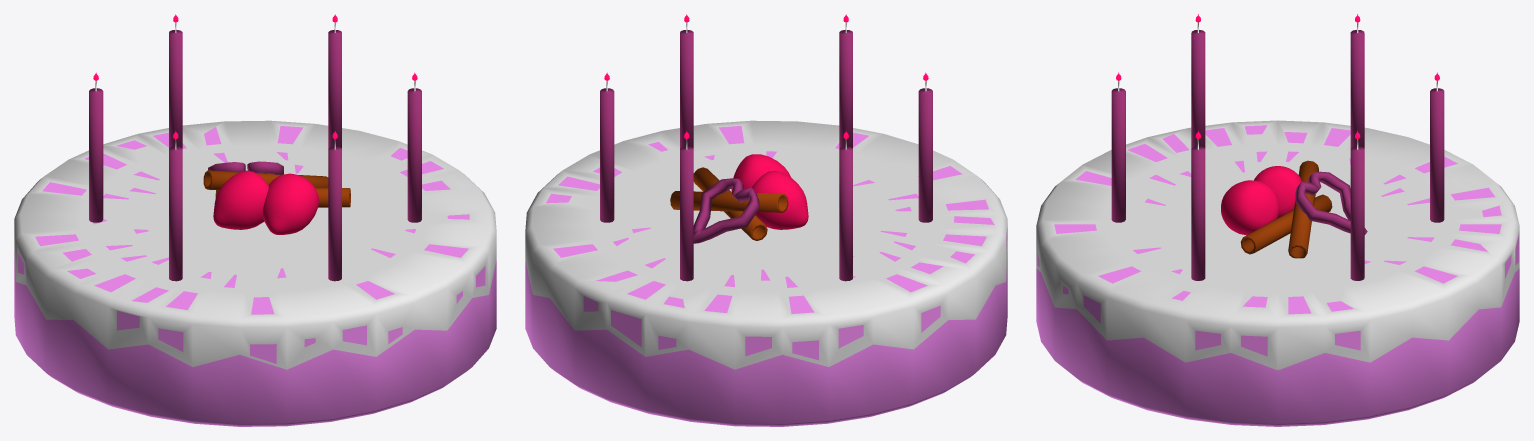
File: mineCake.fbx
3 views of the same model, side by side, from view 1: azimuth 30°, elevation 25°; view 2: azimuth 150°, elevation 25°; view 3: azimuth 270°, elevation 25° (orthographic).
Parts seen in each view (by area): view 1: mineCake; view 2: mineCake; view 3: mineCake.
Part boxes in pixels (bbox=[...]): mineCake: bbox=[14, 14, 496, 426]; mineCake: bbox=[525, 14, 1007, 426]; mineCake: bbox=[1036, 14, 1519, 426].
Bounding box in the file's own units: 200 × 117 × 200.
